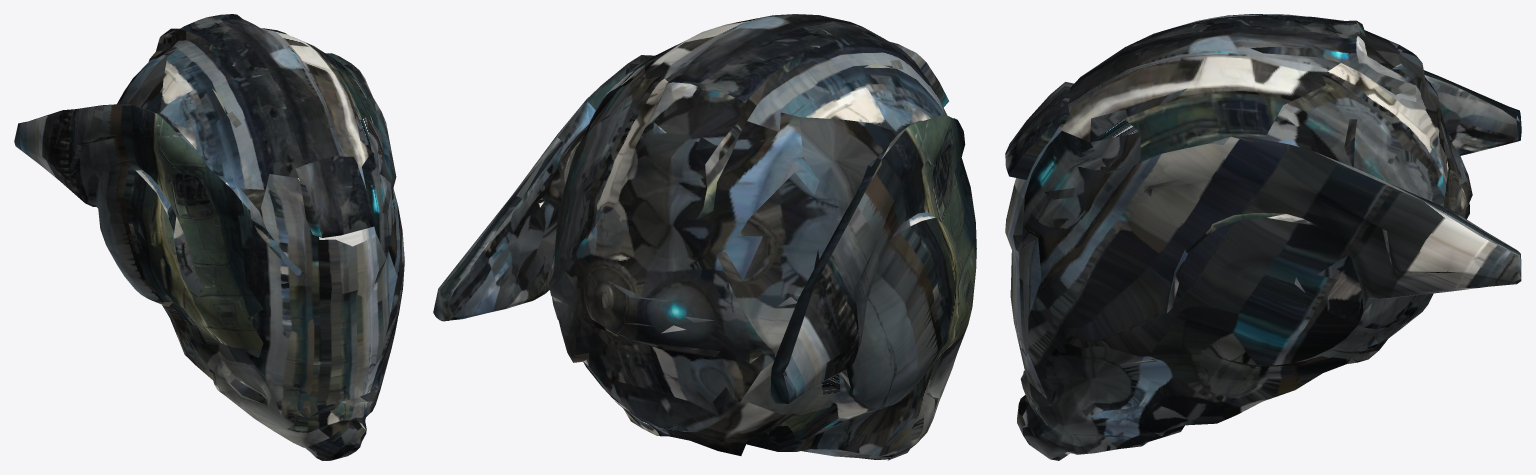
File: helmet_space_jov.dae
3 renders of one model, left to right at view 1: azimuth 30°, elevation 25°; view 2: azimuth 150°, elevation 25°; view 3: azimuth 270°, elevation 25°, orthographic. The views are drawn at different scales.
Parts seen in each view (by area): view 1: helmet_space_jov; view 2: helmet_space_jov; view 3: helmet_space_jov.
Boxes of the visible parts, x1,y1,x2,y2 form: helmet_space_jov: (14,14,404,460); helmet_space_jov: (433,14,976,460); helmet_space_jov: (1005,14,1521,460).
Size of the model in its own units: 0.6062 by 0.8697 by 0.7974.
